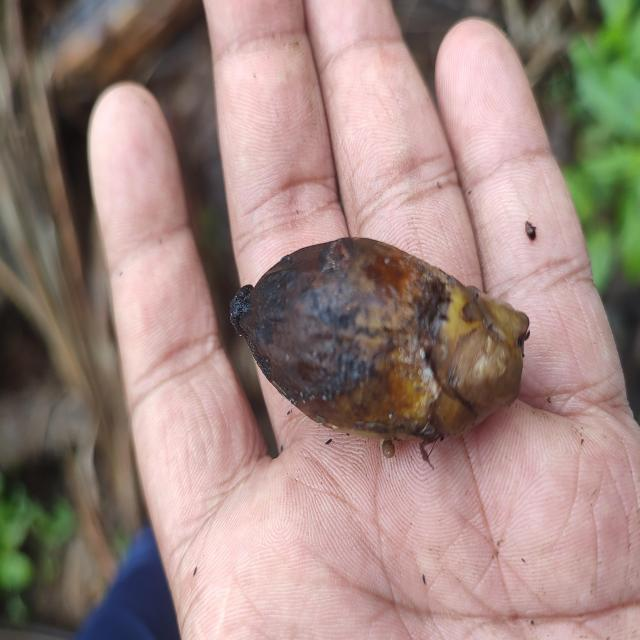damaged: (224, 238, 531, 448)
